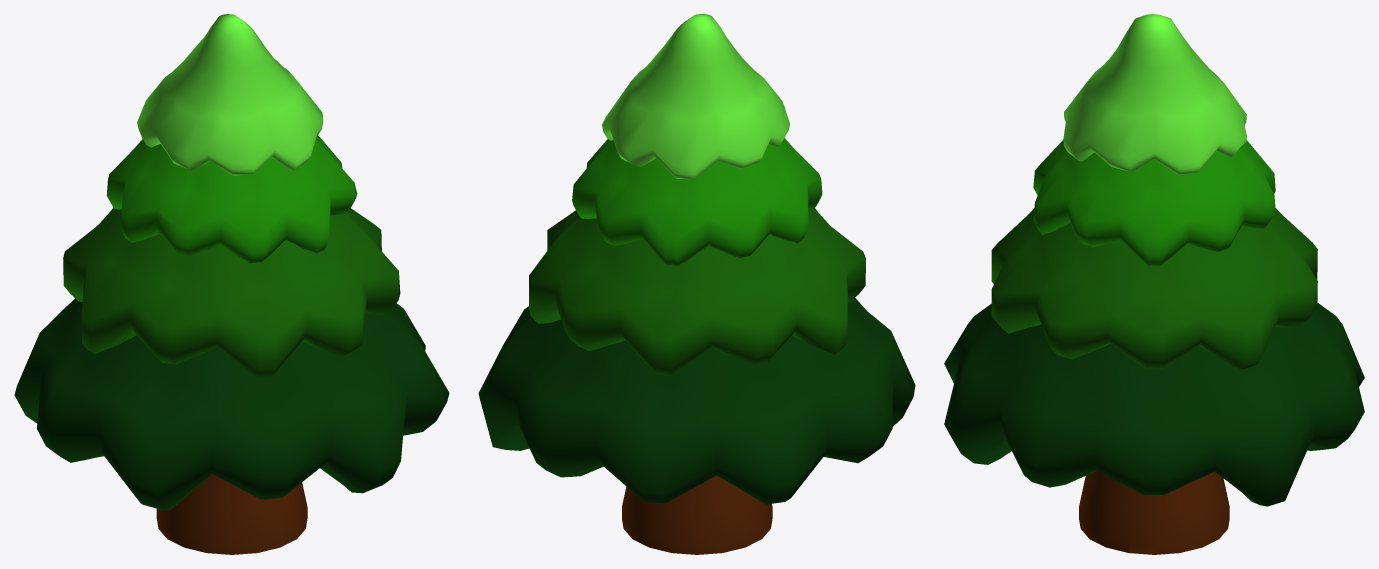
The model's file is Sapin_triangle_v2.fbx.
3 renders of one model, left to right at view 1: azimuth 30°, elevation 25°; view 2: azimuth 150°, elevation 25°; view 3: azimuth 270°, elevation 25°, orthographic.
Visible parts, largest first — view 1: Tronc002, 012; view 2: Tronc002, 012; view 3: Tronc002, 012.
Part boxes in pixels (bbox=[...]): Tronc002: bbox=[14, 135, 449, 554]; 012: bbox=[137, 14, 323, 175]; Tronc002: bbox=[478, 138, 915, 554]; 012: bbox=[602, 14, 789, 179]; Tronc002: bbox=[944, 140, 1364, 554]; 012: bbox=[1063, 14, 1246, 174].
Bounding box in the file's own units: 4.2 × 5.39 × 4.06.
